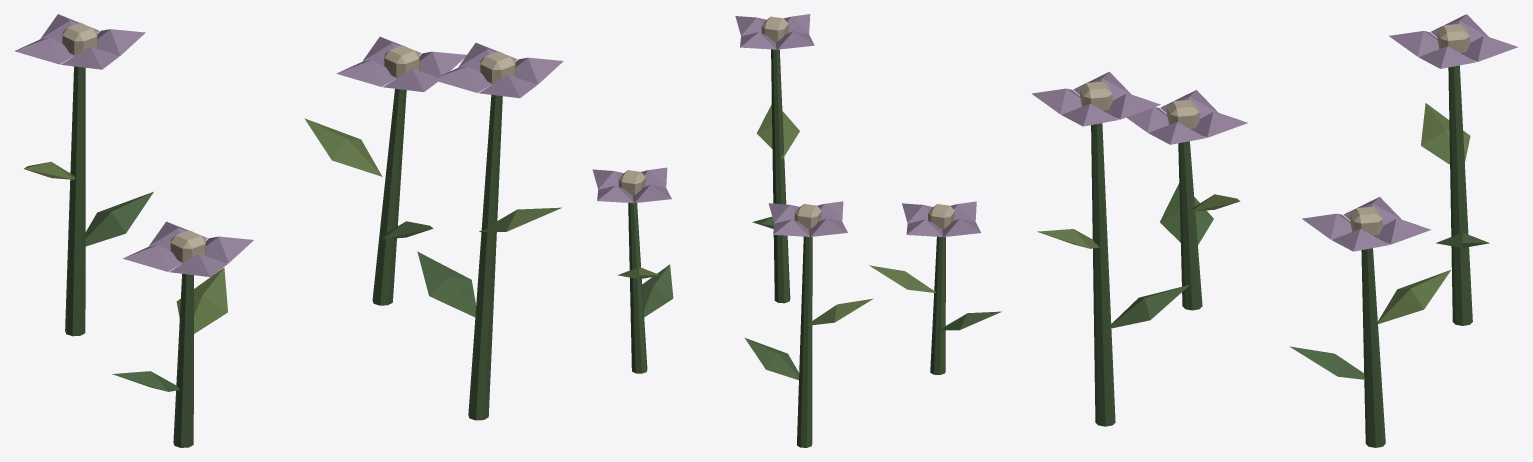
The model's file is flowers_2_summer.glb.
3 views of the same model, side by side, from view 1: azimuth 30°, elevation 25°; view 2: azimuth 150°, elevation 25°; view 3: azimuth 270°, elevation 25° (orthographic). The views are drawn at different scales.
Visible parts, largest first — view 1: flowers_2_summer; view 2: flowers_2_summer; view 3: flowers_2_summer.
Boxes of the visible parts, <box> form: flowers_2_summer: <box>14,14,563,447</box>; flowers_2_summer: <box>592,14,1001,447</box>; flowers_2_summer: <box>1031,14,1518,447</box>.
Bounding box in the file's own units: 1.08 × 0.827 × 1.06.
